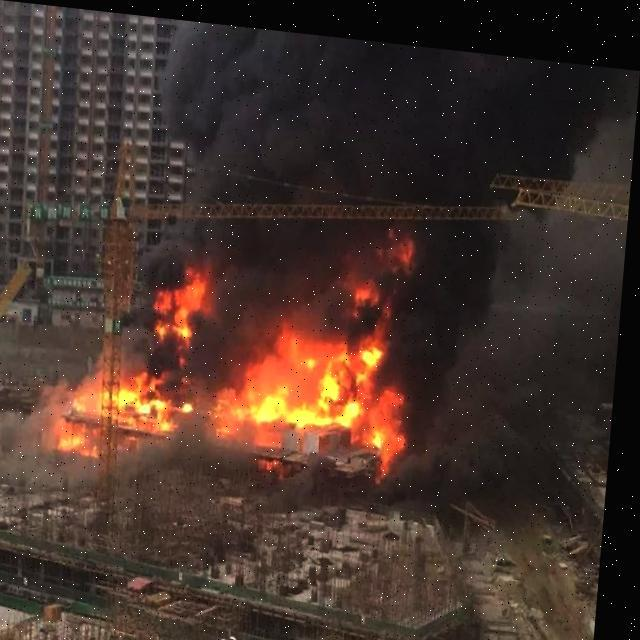Fire: (65, 191, 431, 481)
